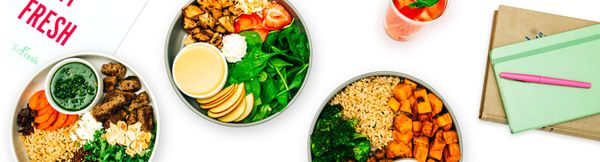curry: (310, 105, 371, 162)
sushi: (166, 0, 313, 127), (10, 54, 161, 160), (309, 72, 464, 162)
